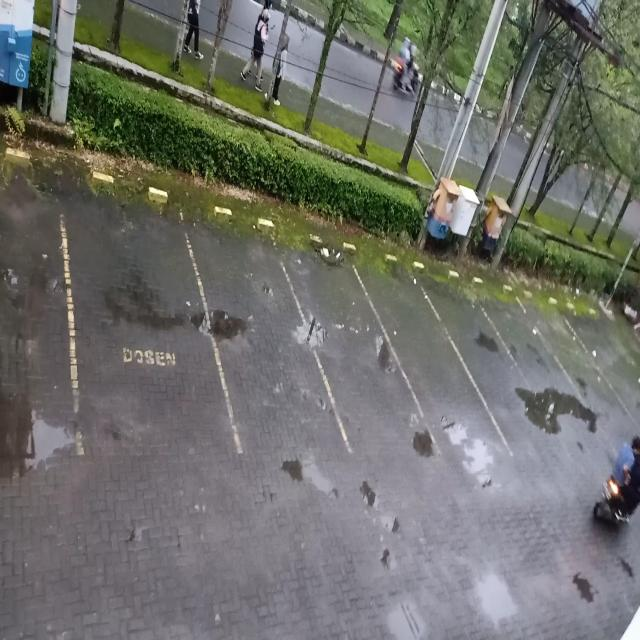empty: (66, 172, 204, 471), (206, 206, 318, 460), (315, 236, 391, 455), (389, 265, 461, 452), (461, 283, 517, 455)
